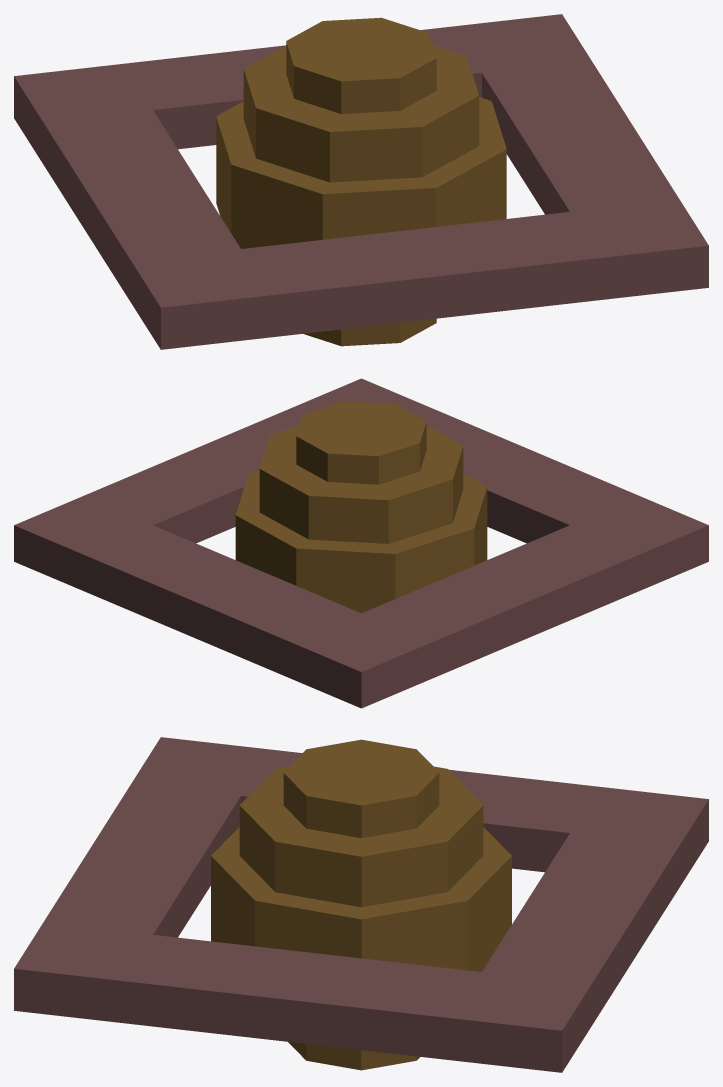
Rendered from planet_round_ring_brown.glb.
3 views of the same model, one above another, from view 1: azimuth 30°, elevation 25°; view 2: azimuth 150°, elevation 25°; view 3: azimuth 270°, elevation 25° (orthographic). The views are drawn at different scales.
Parts seen in each view (by area): view 1: block_tube, cylinderVertex (×4); view 2: block_tube, cylinderVertex (×3); view 3: block_tube, cylinderVertex (×4).
Part boxes in pixels (left/top/right/bottom): block_tube: left=14, top=14, right=708, bottom=349; cylinderVertex (×4): left=216, top=17, right=506, bottom=346; block_tube: left=14, top=378, right=708, bottom=708; cylinderVertex (×3): left=235, top=401, right=487, bottom=613; block_tube: left=14, top=737, right=708, bottom=1072; cylinderVertex (×4): left=211, top=739, right=511, bottom=1070.
Size of the model in its own units: 2.69 by 1.13 by 2.69.
